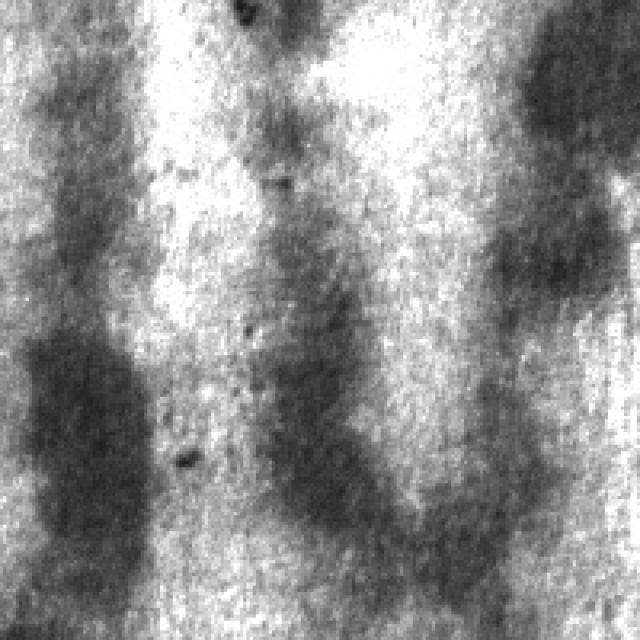patches: (253, 202, 406, 576), (486, 0, 634, 323), (10, 320, 150, 614), (413, 381, 544, 627), (16, 45, 144, 285), (218, 0, 336, 67)
